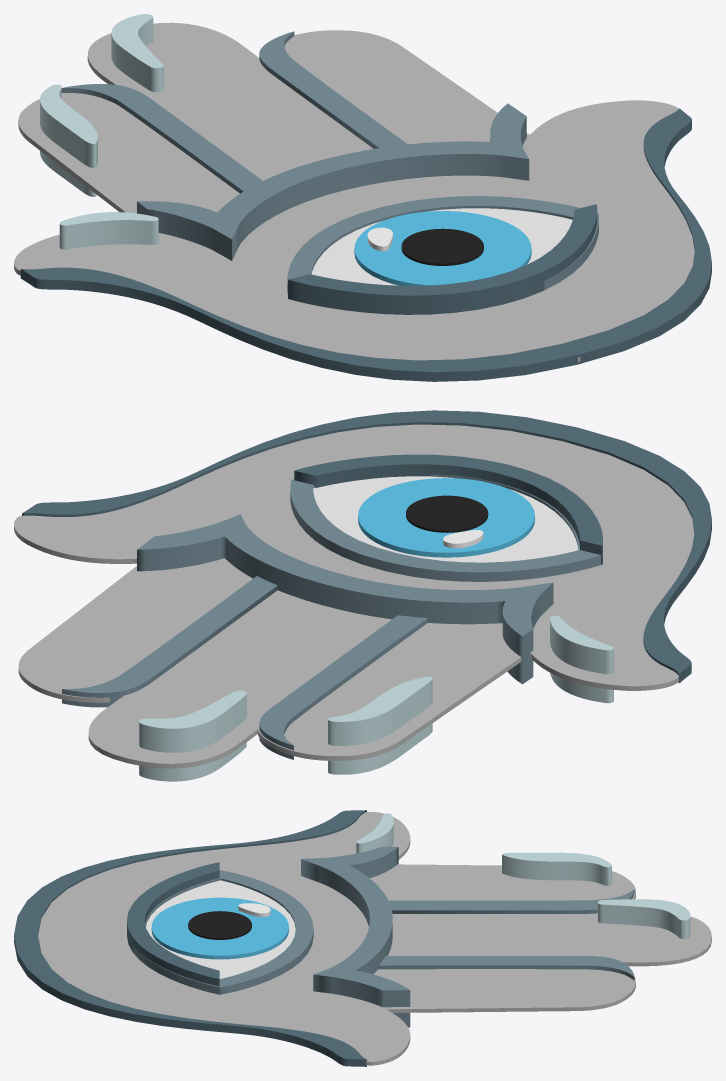
File: emoji_u1faac.glb
3 renders of one model, top to bottom at view 1: azimuth 30°, elevation 25°; view 2: azimuth 150°, elevation 25°; view 3: azimuth 270°, elevation 25°, orthographic. The views are drawn at different scales.
Visible parts, largest first — view 1: emoji_u1faac; view 2: emoji_u1faac; view 3: emoji_u1faac.
Part boxes in pixels (bbox=[...]): emoji_u1faac: bbox=[14, 14, 711, 381]; emoji_u1faac: bbox=[14, 410, 711, 781]; emoji_u1faac: bbox=[14, 810, 711, 1066].
Bounding box in the file's own units: 0.0287 × 0.0022 × 0.0339.
